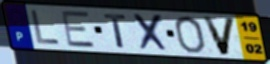E: (60, 10, 98, 49)
L: (29, 9, 62, 46)
O: (173, 15, 207, 55)
T: (102, 13, 129, 50)
V: (200, 15, 238, 56)
X: (132, 13, 172, 54)
